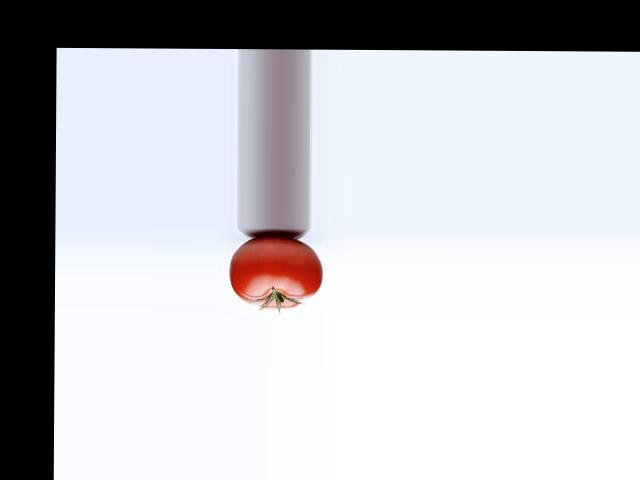tomato: (229, 236, 323, 308)
